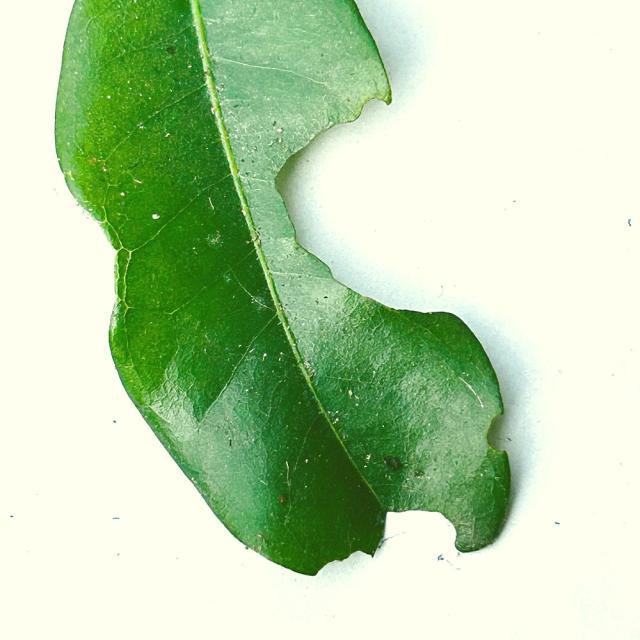Deficiency Leaf: (278, 105, 468, 312), (364, 515, 466, 569)
Lychee: (52, 0, 514, 579)
